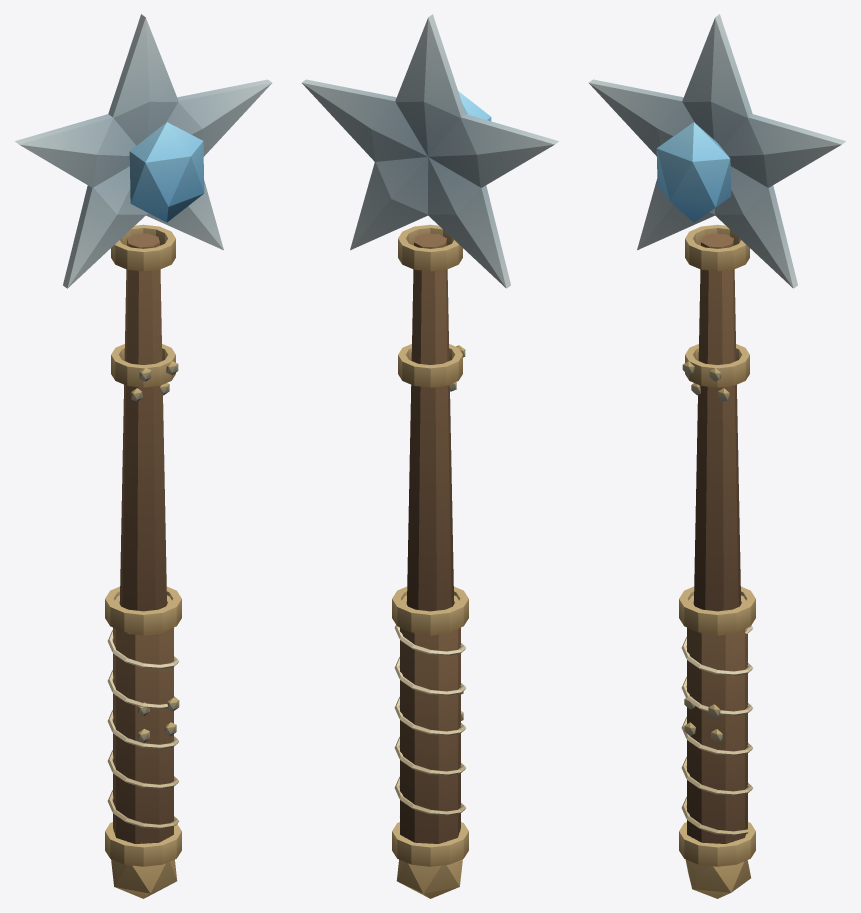
Rendered from varita_lirio_celeste.glb.
3 renders of one model, left to right at view 1: azimuth 30°, elevation 25°; view 2: azimuth 150°, elevation 25°; view 3: azimuth 330°, elevation 25°, orthographic.
Visible parts, largest first — view 1: varita_lirio_celeste_finished; view 2: varita_lirio_celeste_finished; view 3: varita_lirio_celeste_finished.
Part boxes in pixels (bbox=[...]): varita_lirio_celeste_finished: bbox=[15, 14, 272, 898]; varita_lirio_celeste_finished: bbox=[301, 14, 558, 898]; varita_lirio_celeste_finished: bbox=[588, 14, 845, 898].
Size of the model in its own units: 0.3424 by 1.14 by 0.1298.
2 materials, 2 textured.
